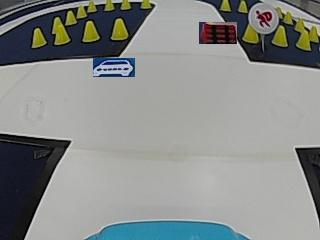thief: (248, 2, 279, 33)
